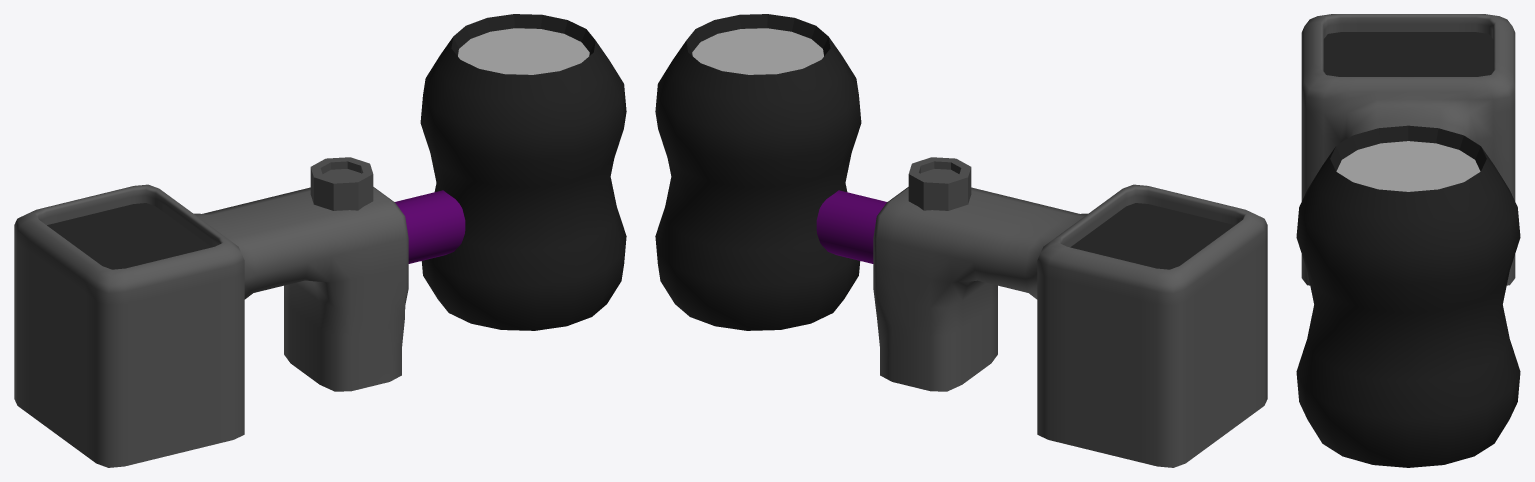
The model's file is InOutNode.fbx.
3 renders of one model, left to right at view 1: azimuth 30°, elevation 25°; view 2: azimuth 150°, elevation 25°; view 3: azimuth 270°, elevation 25°, orthographic. The views are drawn at different scales.
Visible parts, largest first — view 1: InOutNodes; view 2: InOutNodes; view 3: InOutNodes.
Part boxes in pixels (x1,y1,x2,y2): InOutNodes: [14, 14, 626, 467]; InOutNodes: [655, 14, 1267, 467]; InOutNodes: [1296, 14, 1520, 467].
Bounding box in the file's own units: 0.2708 × 0.1284 × 0.0875.
